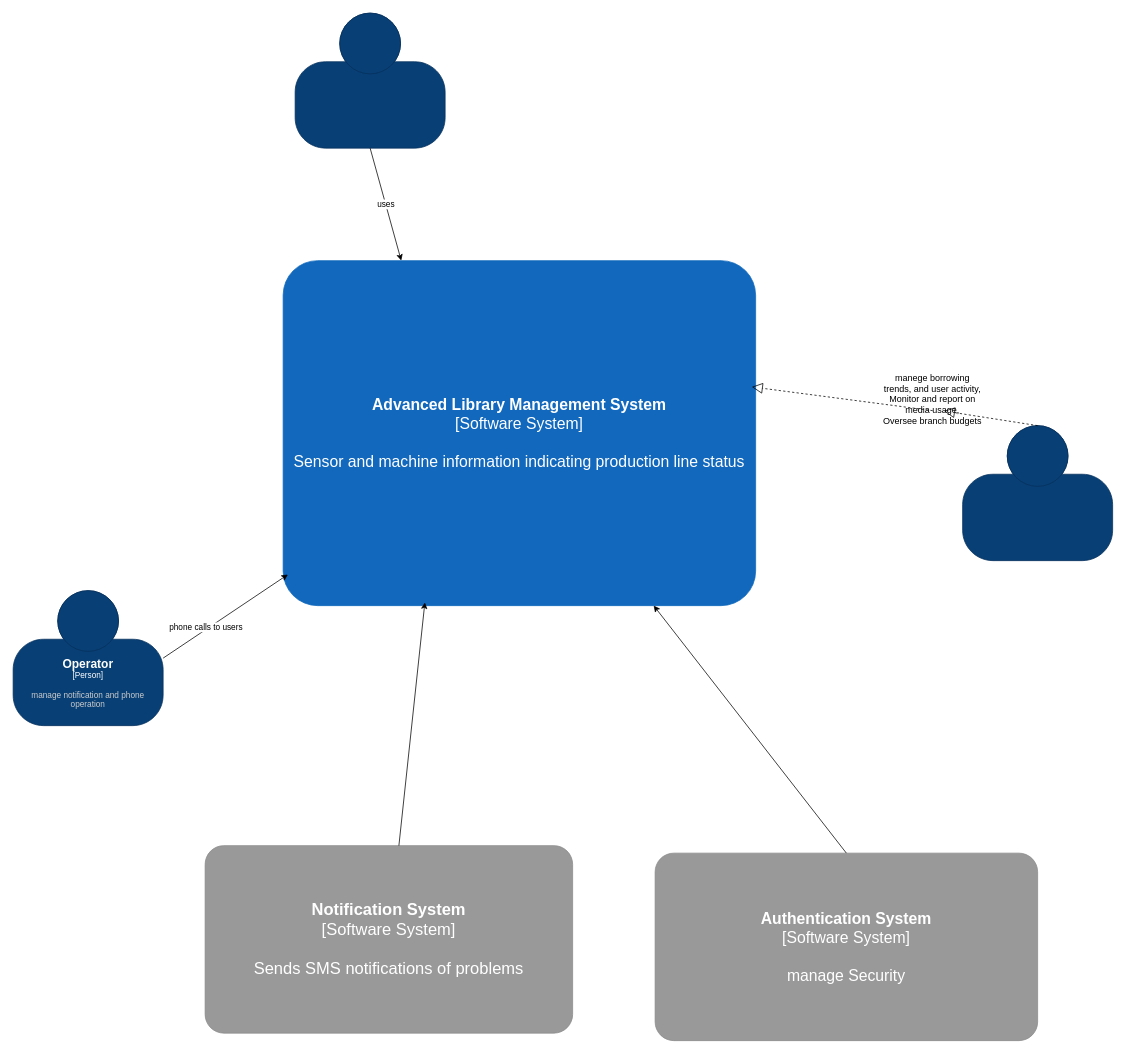
Image size: 1126x1054. Some labels were removed from this diagram. Here are the shapes that lost their labels. From the top down, the centre of each, then its label:
the point at 369,80: User [Person] Registred Users
the point at 1037,493: Brunch Manager [Person] manage branch operations
